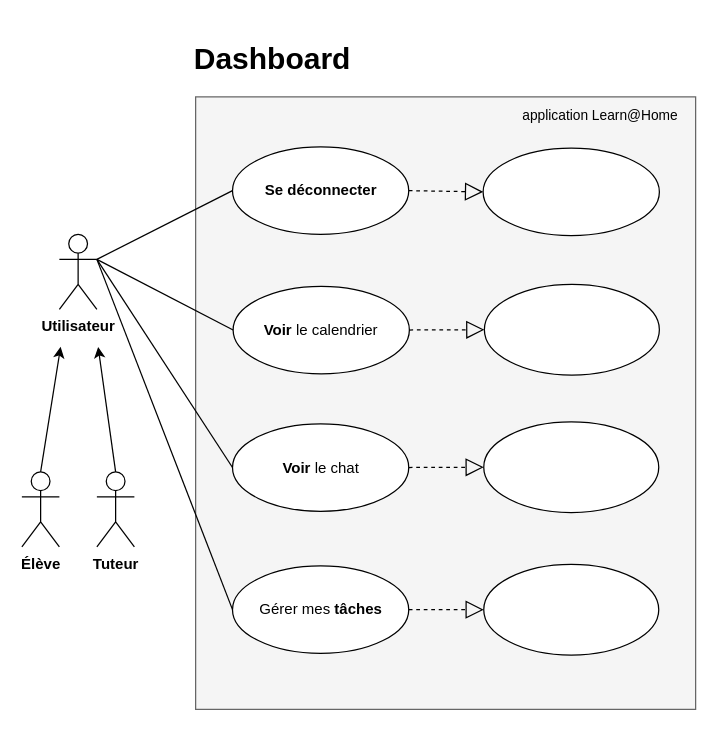
Image size: 718x731. Some labels were removed from this diagram. The shapes that lost their labels are listed below. From the top down, each one's centre as x and y in pixels, then its label:
At (x=570, y=191): "Page de connexion".
At (x=571, y=329): "Page calendrier".
At (x=570, y=466): "Page chat".
At (x=570, y=609): "Page gestion des tâches".
